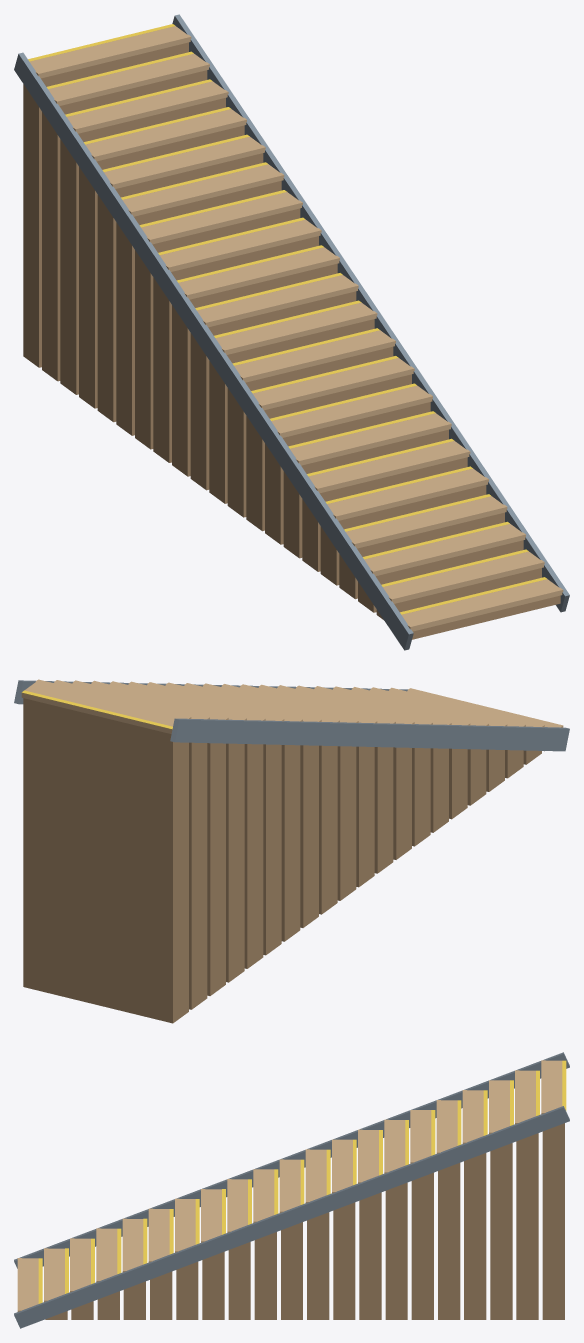
File: WH_Stair.fbx
3 renders of one model, top to bottom at view 1: azimuth 30°, elevation 25°; view 2: azimuth 150°, elevation 25°; view 3: azimuth 270°, elevation 25°, orthographic. The views are drawn at different scales.
Visible parts, largest first — view 1: WH_Stair; view 2: WH_Stair; view 3: WH_Stair.
Boxes of the visible parts, x1=… form: WH_Stair: x1=14, y1=14, x2=569, y2=650; WH_Stair: x1=14, y1=679, x2=569, y2=1023; WH_Stair: x1=14, y1=1052, x2=569, y2=1328.
Bounding box in the file's own units: 2 × 3.73 × 8.5.
